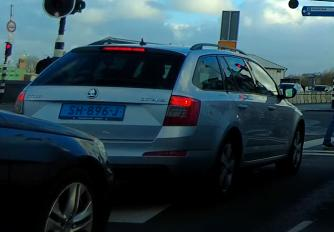license-plate: (58, 103, 126, 121)
